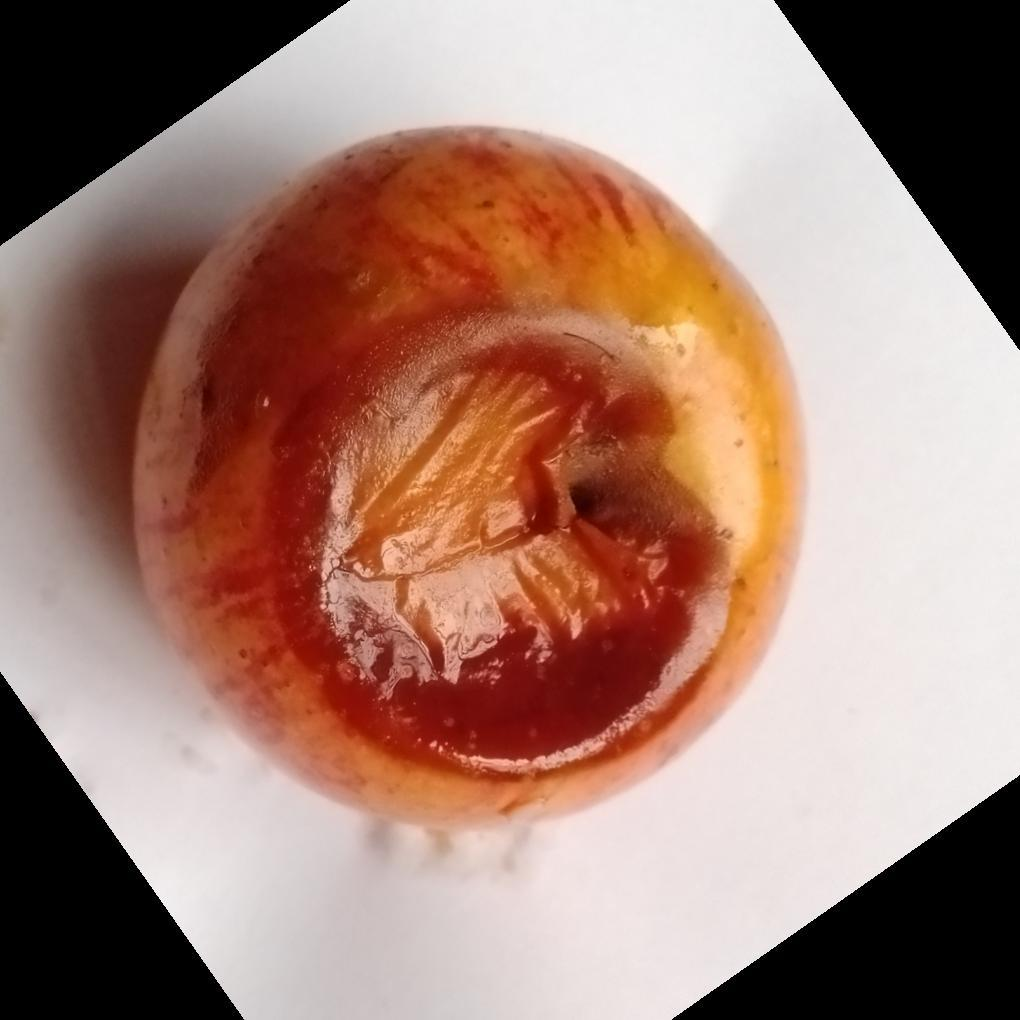FreshOrange: (129, 126, 811, 837)
